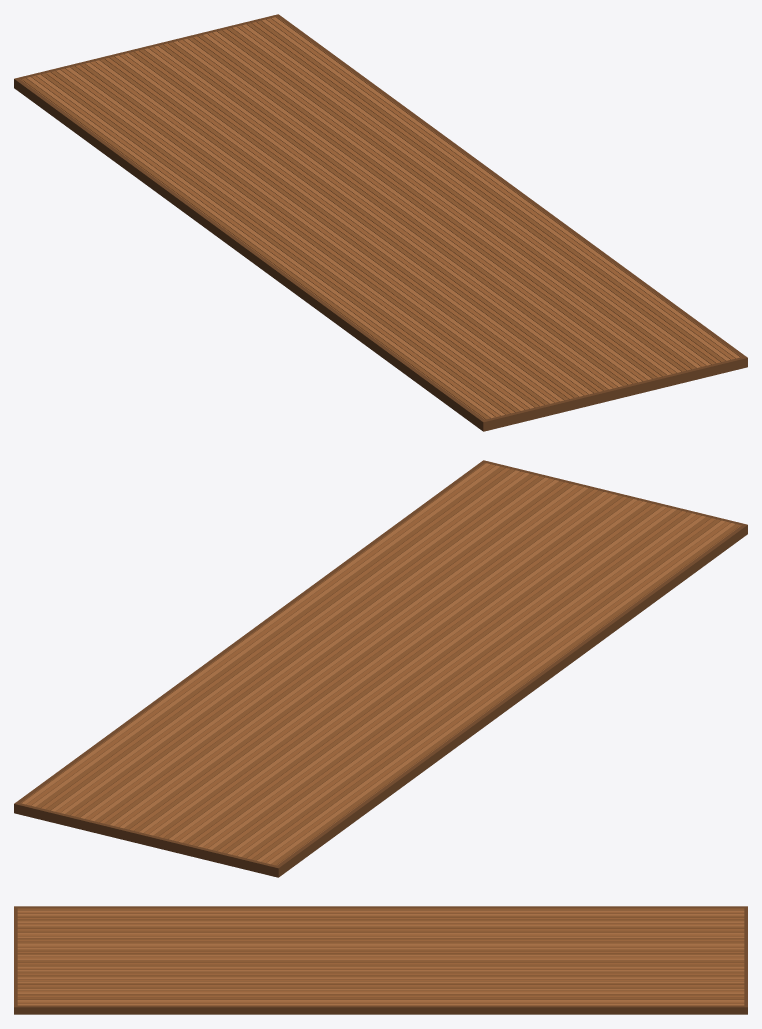
File: boardwalk-pier.glb
3 views of the same model, one above another, from view 1: azimuth 30°, elevation 25°; view 2: azimuth 150°, elevation 25°; view 3: azimuth 270°, elevation 25° (orthographic). The views are drawn at different scales.
Parts seen in each view (by area): view 1: boardwalk-pier; view 2: boardwalk-pier; view 3: boardwalk-pier.
Part boxes in pixels (<box>): boardwalk-pier: <box>14,14,747,431</box>; boardwalk-pier: <box>14,460,747,877</box>; boardwalk-pier: <box>14,906,747,1014</box>.
Bounding box in the file's own units: 27 × 0.92 × 83.
